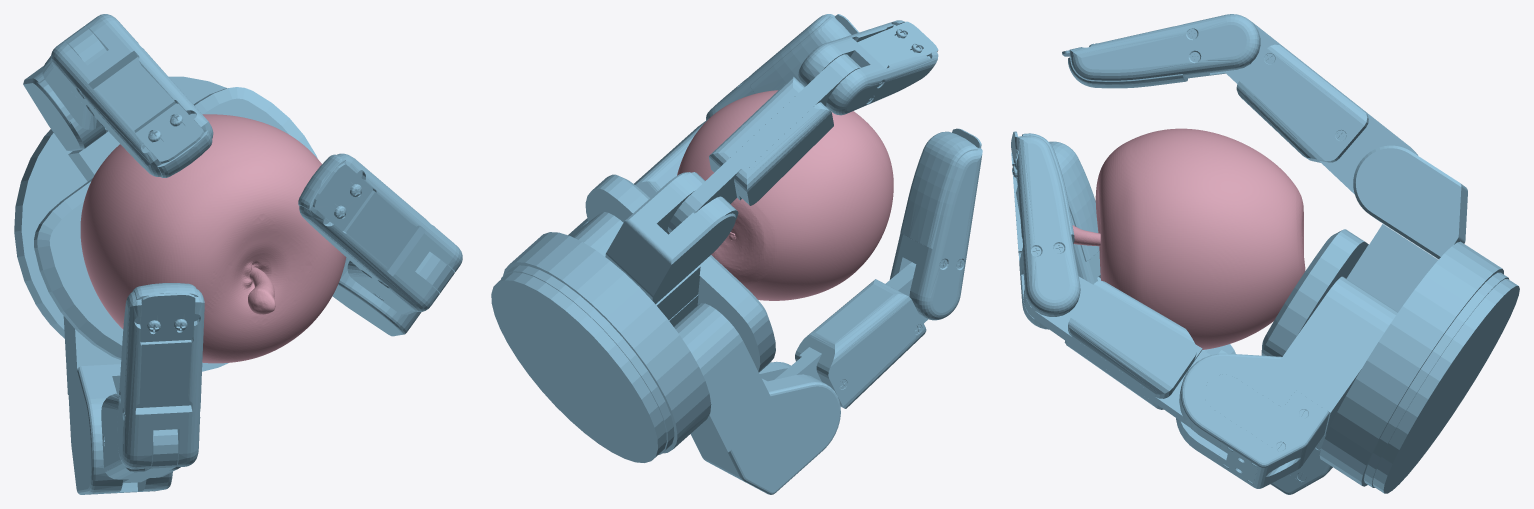
3 renders of one model, left to right at view 1: azimuth 30°, elevation 25°; view 2: azimuth 150°, elevation 25°; view 3: azimuth 270°, elevation 25°, orthographic. The views are drawn at different scales.
Visible parts, largest first — view 1: world, apple.stl; view 2: world, apple.stl; view 3: world, apple.stl.
Boxes of the visible parts, <box> form: world: <box>14,14,462,494</box>; apple.stl: <box>80,114,346,363</box>; world: <box>491,14,982,494</box>; apple.stl: <box>677,90,893,300</box>; world: <box>1011,14,1519,494</box>; apple.stl: <box>1072,128,1305,349</box>.
Bounding box in the file's own units: 0.1477 × 0.1691 × 0.1748.
